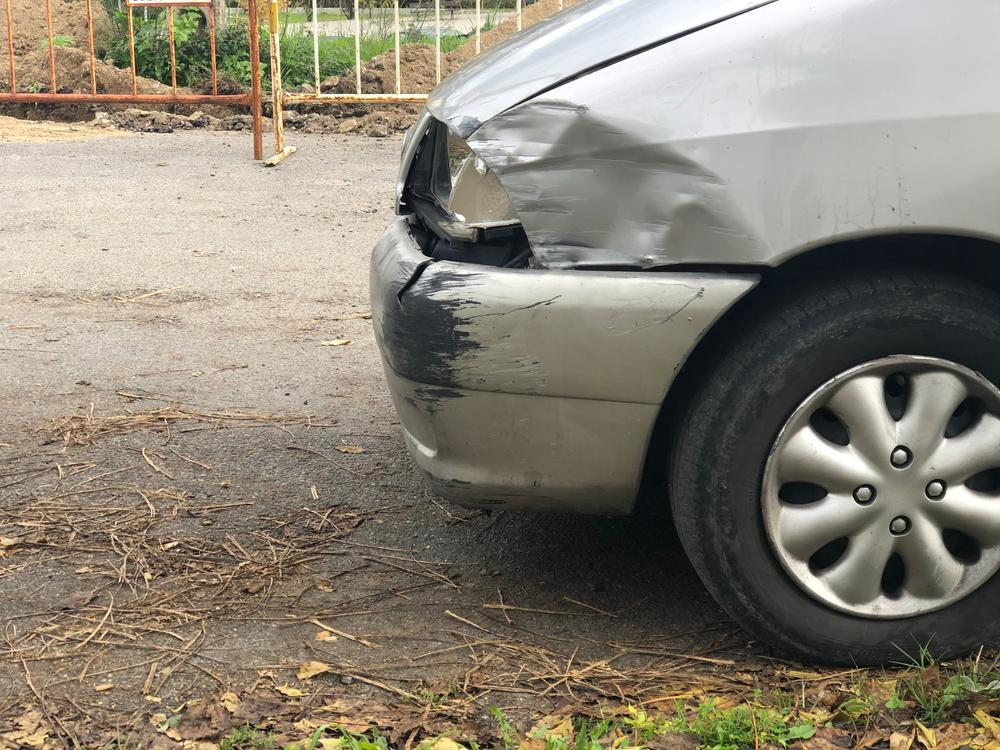crack: (397, 258, 444, 306)
dent: (468, 101, 771, 265)
scratch: (379, 261, 557, 416)
